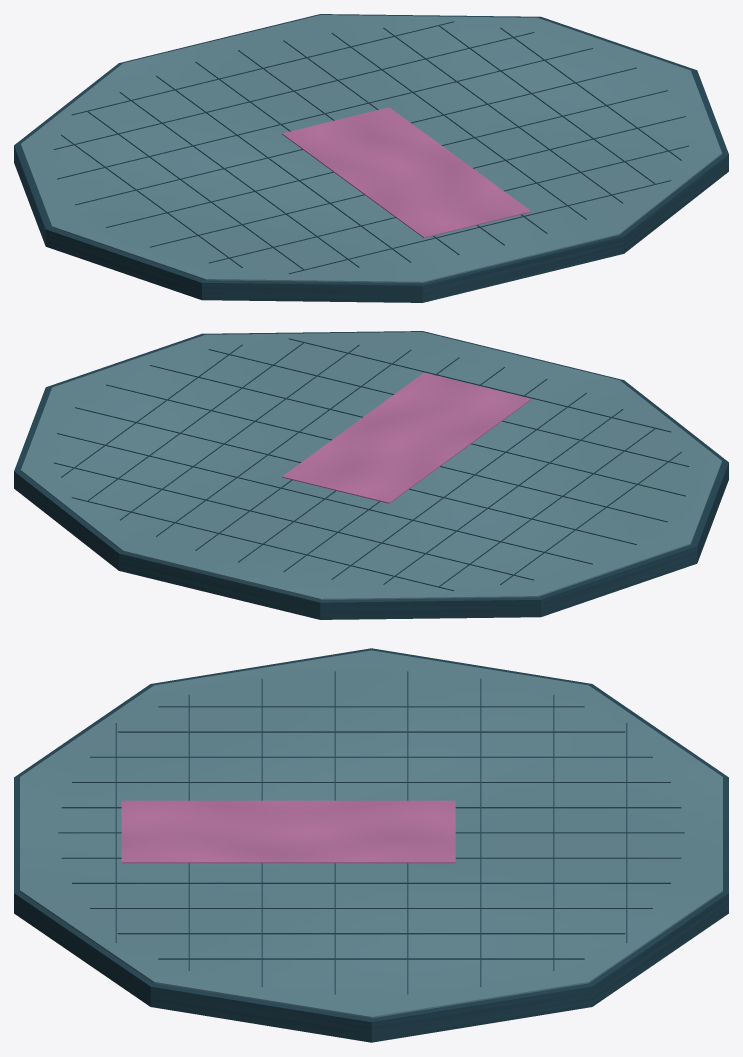
Rendered from atlas100-s064-a07.glb.
3 renders of one model, top to bottom at view 1: azimuth 30°, elevation 25°; view 2: azimuth 150°, elevation 25°; view 3: azimuth 270°, elevation 25°, orthographic. The views are drawn at different scales.
Visible parts, largest first — view 1: atlas100-s064-a07:part-001, atlas100-s064-a07:part-000, atlas100-s064-a07:part-021, atlas100-s064-a07:part-015, atlas100-s064-a07:part-014, atlas100-s064-a07:part-016, atlas100-s064-a07:part-017, atlas100-s064-a07:part-018, atlas100-s064-a07:part-020, atlas100-s064-a07:part-013, atlas100-s064-a07:part-019, atlas100-s064-a07:part-009 (+3 smaller); view 2: atlas100-s064-a07:part-001, atlas100-s064-a07:part-000, atlas100-s064-a07:part-021, atlas100-s064-a07:part-015, atlas100-s064-a07:part-014, atlas100-s064-a07:part-016, atlas100-s064-a07:part-017, atlas100-s064-a07:part-018, atlas100-s064-a07:part-013, atlas100-s064-a07:part-020, atlas100-s064-a07:part-019, atlas100-s064-a07:part-009 (+3 smaller); view 3: atlas100-s064-a07:part-001, atlas100-s064-a07:part-000, atlas100-s064-a07:part-021, atlas100-s064-a07:part-009, atlas100-s064-a07:part-004, atlas100-s064-a07:part-003, atlas100-s064-a07:part-011, atlas100-s064-a07:part-012, atlas100-s064-a07:part-002.
Part boxes in pixels (left/top/right/bottom): atlas100-s064-a07:part-001: left=21, top=15, right=721, bottom=282; atlas100-s064-a07:part-000: left=14, top=14, right=728, bottom=302; atlas100-s064-a07:part-021: left=282, top=107, right=531, bottom=238; atlas100-s064-a07:part-015: left=57, top=48, right=592, bottom=179; atlas100-s064-a07:part-014: left=53, top=32, right=534, bottom=149; atlas100-s064-a07:part-016: left=75, top=67, right=636, bottom=205; atlas100-s064-a07:part-017: left=106, top=90, right=667, bottom=227; atlas100-s064-a07:part-018: left=150, top=116, right=685, bottom=247; atlas100-s064-a07:part-020: left=288, top=180, right=671, bottom=274; atlas100-s064-a07:part-013: left=71, top=21, right=454, bottom=115; atlas100-s064-a07:part-019: left=209, top=145, right=688, bottom=263; atlas100-s064-a07:part-009: left=331, top=32, right=586, bottom=219; atlas100-s064-a07:part-001: left=21, top=332, right=721, bottom=599; atlas100-s064-a07:part-000: left=14, top=331, right=728, bottom=619; atlas100-s064-a07:part-021: left=282, top=372, right=531, bottom=503; atlas100-s064-a07:part-015: left=57, top=433, right=592, bottom=564; atlas100-s064-a07:part-014: left=54, top=462, right=533, bottom=580; atlas100-s064-a07:part-016: left=75, top=407, right=636, bottom=544; atlas100-s064-a07:part-017: left=106, top=384, right=667, bottom=522; atlas100-s064-a07:part-018: left=150, top=365, right=685, bottom=496; atlas100-s064-a07:part-013: left=71, top=497, right=454, bottom=591; atlas100-s064-a07:part-020: left=288, top=338, right=671, bottom=432; atlas100-s064-a07:part-019: left=208, top=349, right=689, bottom=466; atlas100-s064-a07:part-009: left=156, top=349, right=411, bottom=536; atlas100-s064-a07:part-001: left=20, top=650, right=722, bottom=1018; atlas100-s064-a07:part-000: left=14, top=648, right=728, bottom=1042; atlas100-s064-a07:part-021: left=121, top=800, right=455, bottom=863; atlas100-s064-a07:part-009: left=72, top=882, right=670, bottom=883; atlas100-s064-a07:part-004: left=90, top=756, right=652, bottom=757; atlas100-s064-a07:part-003: left=117, top=731, right=625, bottom=732; atlas100-s064-a07:part-011: left=117, top=933, right=625, bottom=934; atlas100-s064-a07:part-012: left=158, top=958, right=584, bottom=959; atlas100-s064-a07:part-002: left=158, top=706, right=584, bottom=707.
Bounding box in the file's own units: 13.35 × 0.404 × 10.78.
3 materials, 3 textured.
